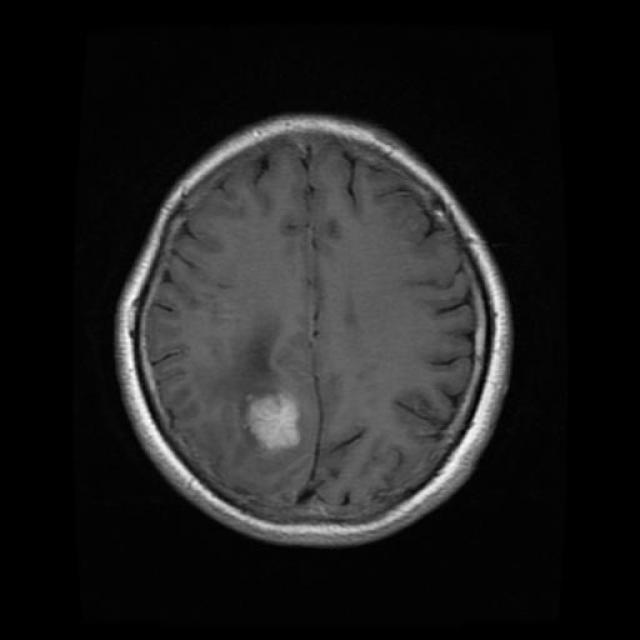meningioma: (248, 395, 299, 450)
